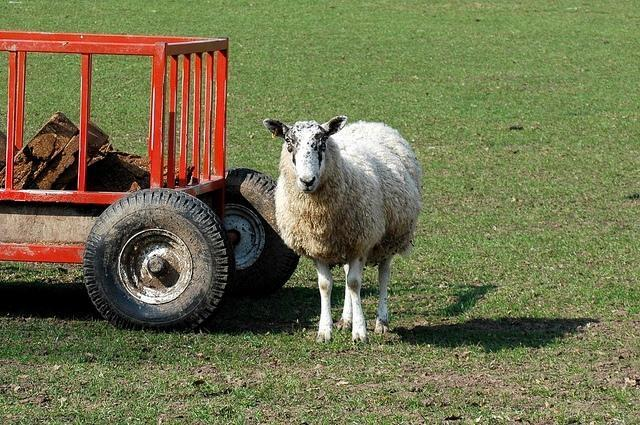truck: (2, 27, 306, 342)
